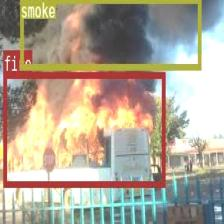fire: (3, 71, 164, 185)
smoke: (19, 0, 200, 68)
